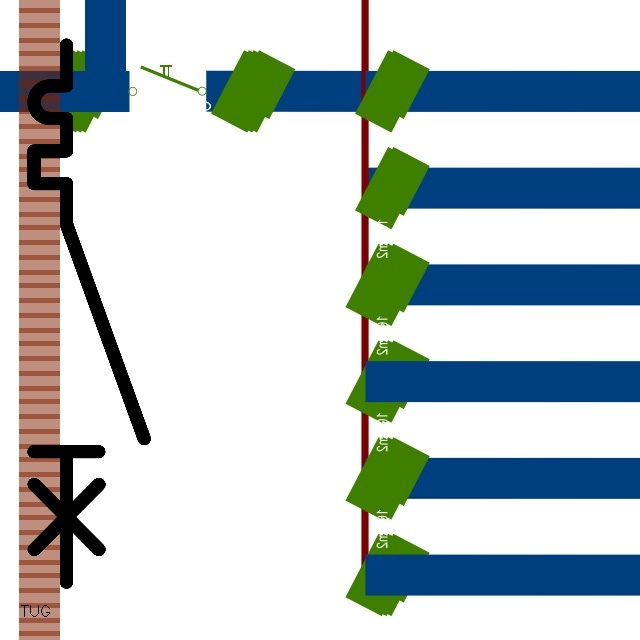interruptor_termomagnetico: (20, 31, 158, 596)
